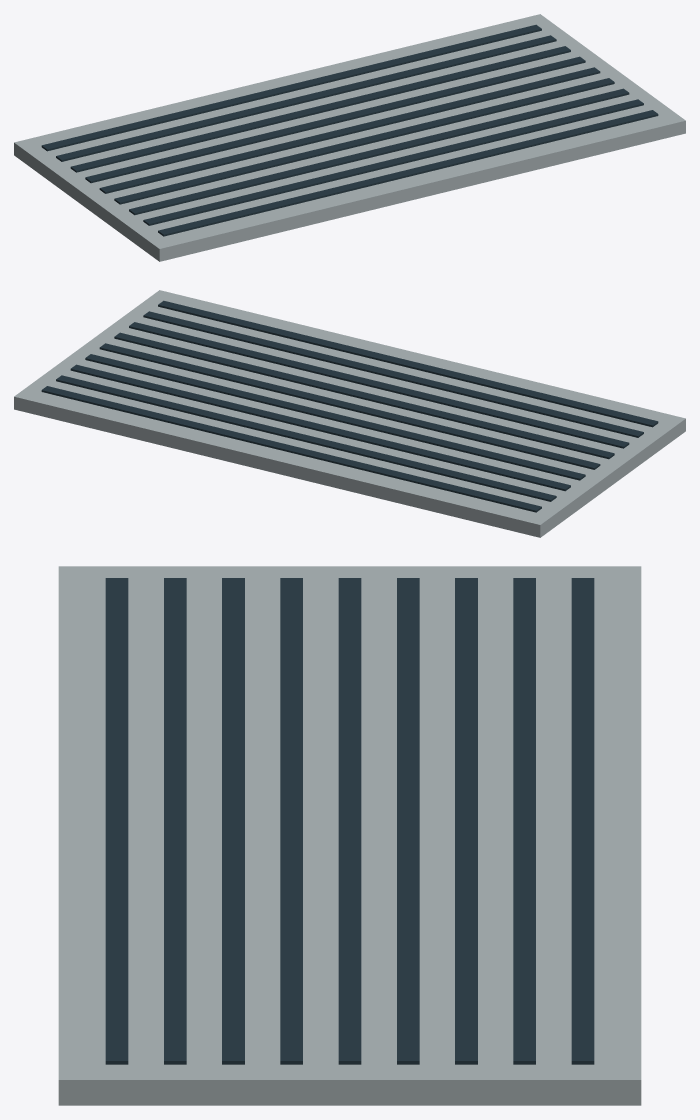
Rendered from scendance-plan-aluminum-trackway.glb.
3 views of the same model, one above another, from view 1: azimuth 30°, elevation 25°; view 2: azimuth 150°, elevation 25°; view 3: azimuth 270°, elevation 25° (orthographic). The views are drawn at different scales.
Size of the model in its own units: 2.4 by 0.064 by 1.15.
